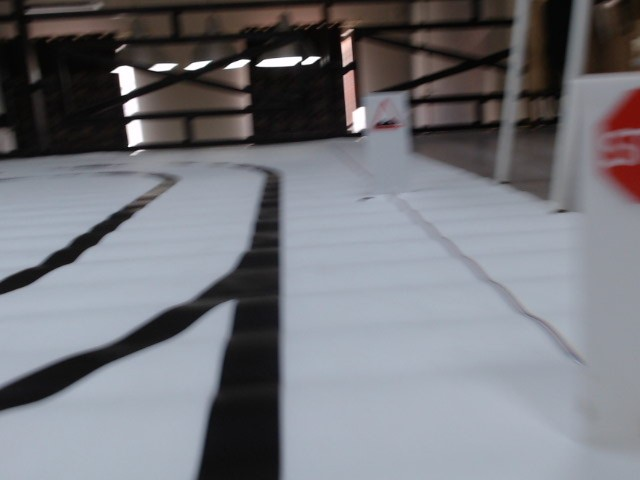Nerov: (371, 97, 403, 129)
